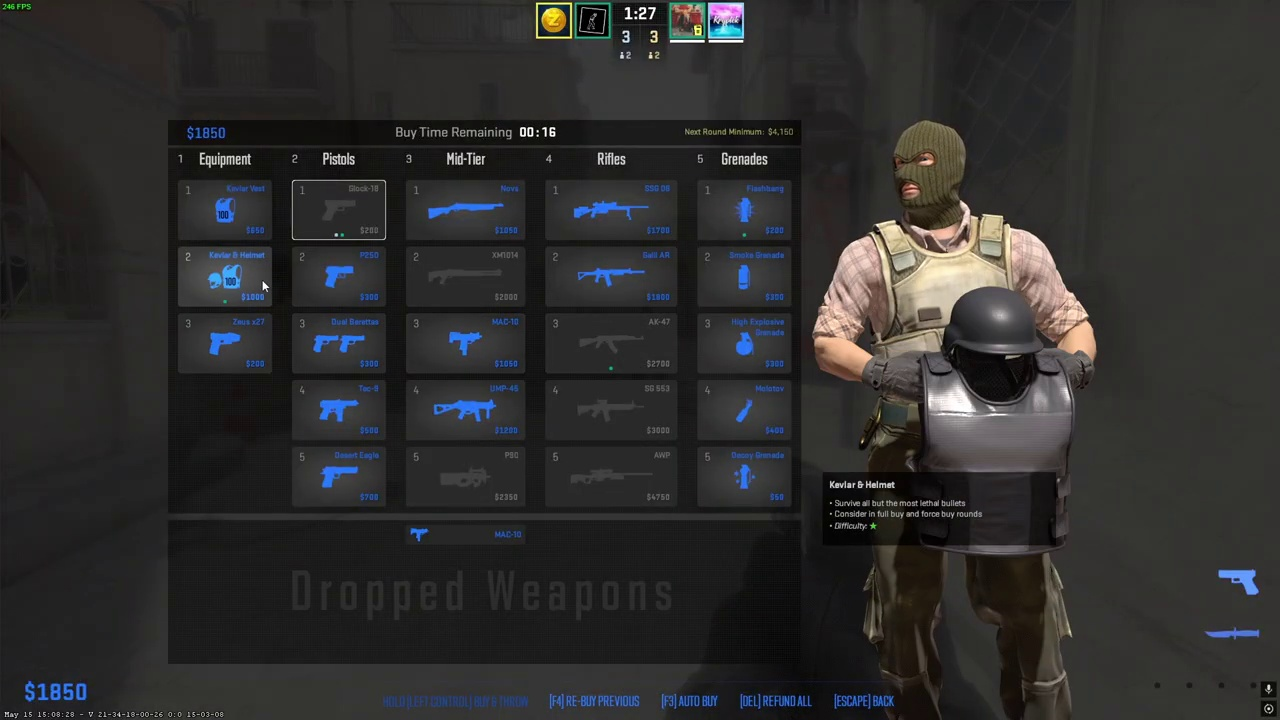Terrorist: (854, 122, 1084, 720)
